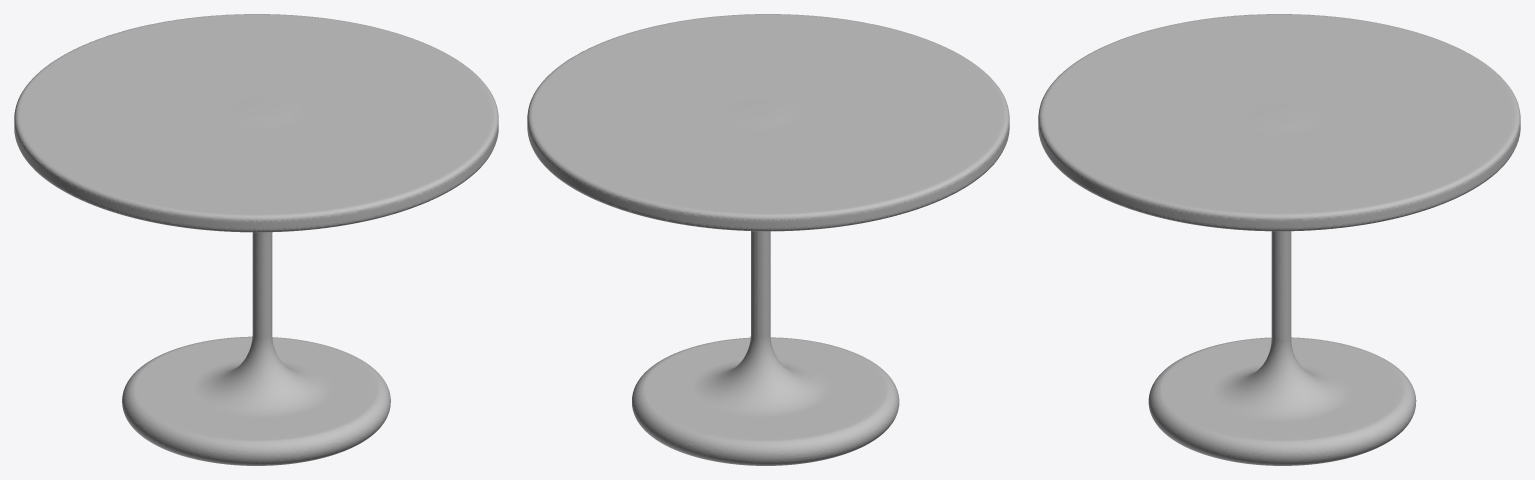
The model's file is small-table.glb.
3 views of the same model, side by side, from view 1: azimuth 30°, elevation 25°; view 2: azimuth 150°, elevation 25°; view 3: azimuth 270°, elevation 25° (orthographic).
Parts seen in each view (by area): view 1: model_0; view 2: model_0; view 3: model_0.
Boxes of the visible parts, box(x1,y1,x2,y2) form: model_0: box(14, 14, 498, 465); model_0: box(527, 14, 1009, 465); model_0: box(1038, 14, 1520, 465).
Bounding box in the file's own units: 451 × 315 × 451.
1 material, 1 textured.
